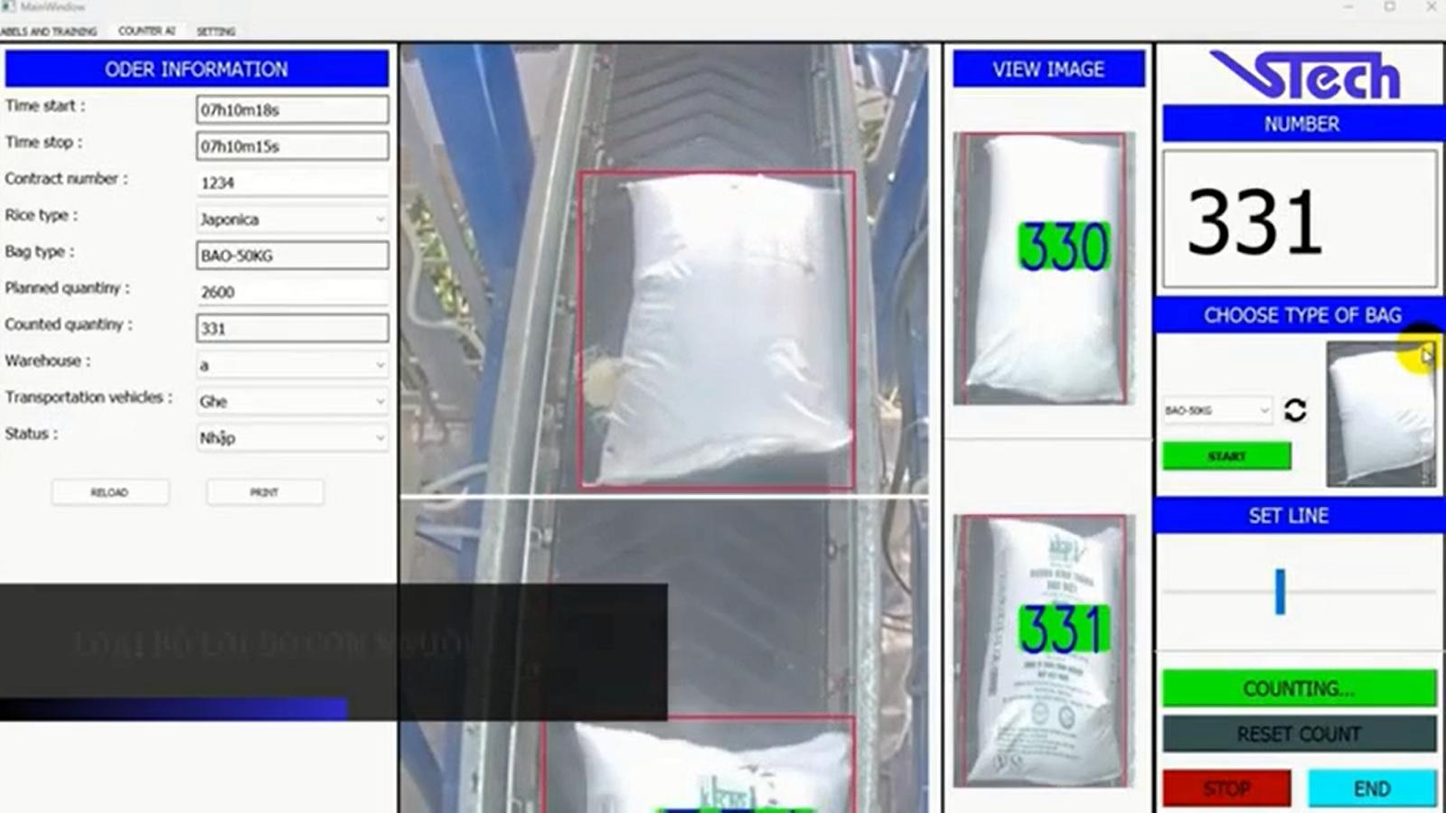rice-bag: (596, 174, 850, 484), (968, 518, 1124, 786), (966, 135, 1122, 402)
